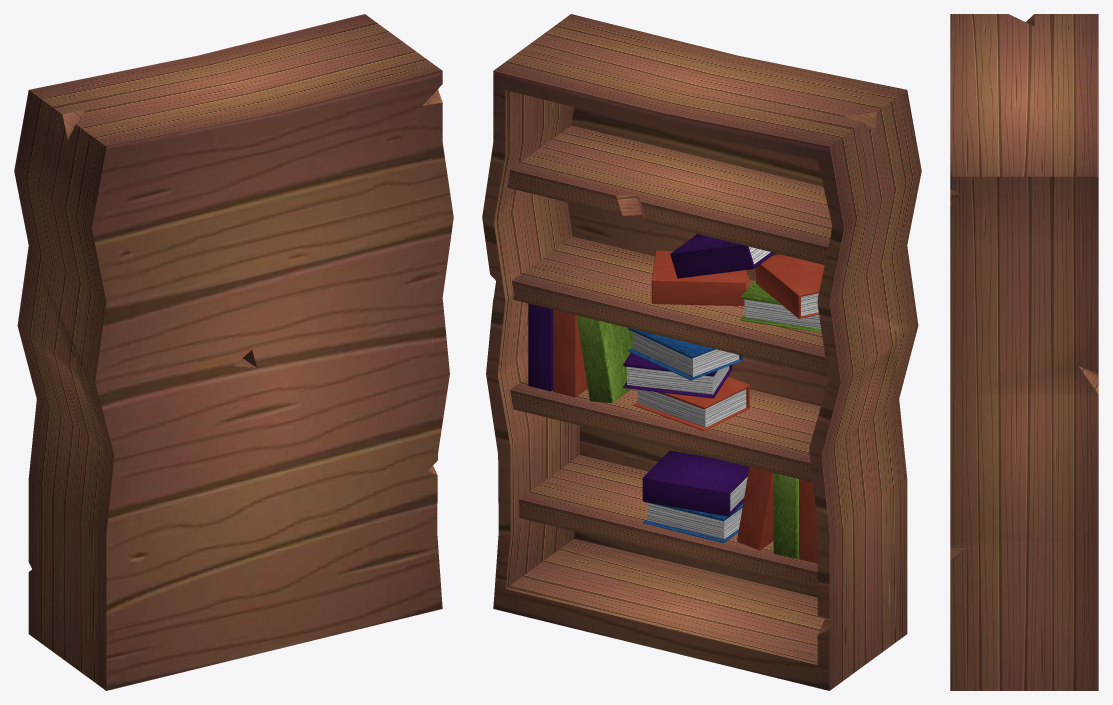
File: BOOKCASE FEW BOOKS.FBX
3 renders of one model, left to right at view 1: azimuth 30°, elevation 25°; view 2: azimuth 150°, elevation 25°; view 3: azimuth 270°, elevation 25°, orthographic. The views are drawn at different scales.
Parts seen in each view (by area): view 1: Box044; view 2: Box044, Box032, Box037, Box043, Box034, Box040, Box036, Box042, Box035, Box038, Box031, Box033 (+4 smaller); view 3: Box044.
Boxes of the visible parts, <box> form: Box044: <box>14,14,453,690</box>; Box044: <box>482,14,921,690</box>; Box032: <box>642,450,749,516</box>; Box037: <box>576,315,632,402</box>; Box043: <box>651,250,749,306</box>; Box034: <box>633,377,749,430</box>; Box040: <box>755,254,824,318</box>; Box036: <box>628,328,742,380</box>; Box042: <box>670,234,775,278</box>; Box035: <box>623,353,732,398</box>; Box038: <box>553,309,587,397</box>; Box031: <box>737,467,773,550</box>; Box033: <box>642,502,743,542</box>; Box044: <box>950,14,1098,690</box>.
Size of the model in its own units: 53.81 by 77.33 by 20.
